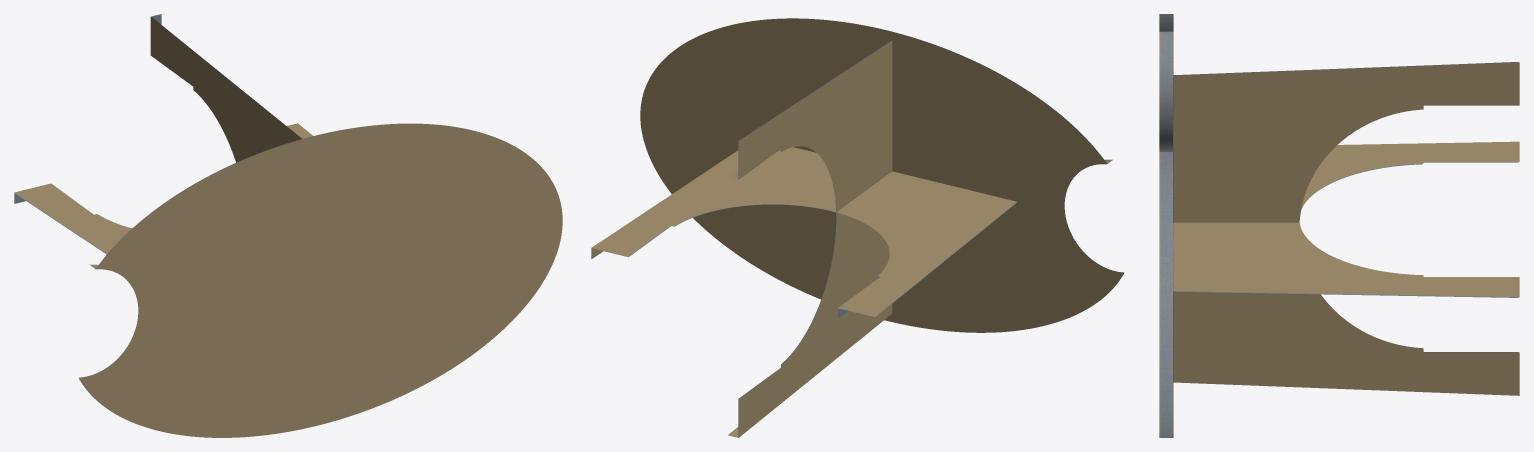
File: NODO_MESA_RATONA_ORGANICA_CUARZO_V3.glb
3 views of the same model, side by side, from view 1: azimuth 30°, elevation 25°; view 2: azimuth 150°, elevation 25°; view 3: azimuth 270°, elevation 25° (orthographic). The views are drawn at different scales.
Parts seen in each view (by area): view 1: tapa_canto, pataB_canto, pataA_canto, tapa_cuerpo; view 2: tapa_canto, pataB_canto, pataA_canto, pataA_cuerpo, tapa_cuerpo, pataB_cuerpo; view 3: pataB_canto, pataA_canto, tapa_cuerpo, tapa_canto, pataA_cuerpo, pataB_cuerpo.
Part boxes in pixels (box(x1,y1,x2,y2)): tapa_canto: box(79, 123, 562, 437); pataB_canto: box(150, 14, 301, 162); pataA_canto: box(14, 123, 312, 253); tapa_cuerpo: box(79, 123, 511, 398); tapa_canto: box(640, 18, 1123, 332); pataB_canto: box(728, 38, 892, 437); pataA_canto: box(591, 147, 1017, 319); pataA_cuerpo: box(592, 202, 1016, 318); tapa_cuerpo: box(699, 18, 1123, 299); pataB_cuerpo: box(731, 41, 891, 436); pataB_canto: box(1173, 62, 1519, 395); pataA_canto: box(1173, 141, 1519, 297); tapa_cuerpo: box(1160, 14, 1172, 437); tapa_canto: box(1159, 14, 1173, 437); pataA_cuerpo: box(1173, 162, 1518, 297); pataB_cuerpo: box(1173, 62, 1518, 382).
Bounding box in the file's own units: 0.7852 × 0.46 × 0.45.
